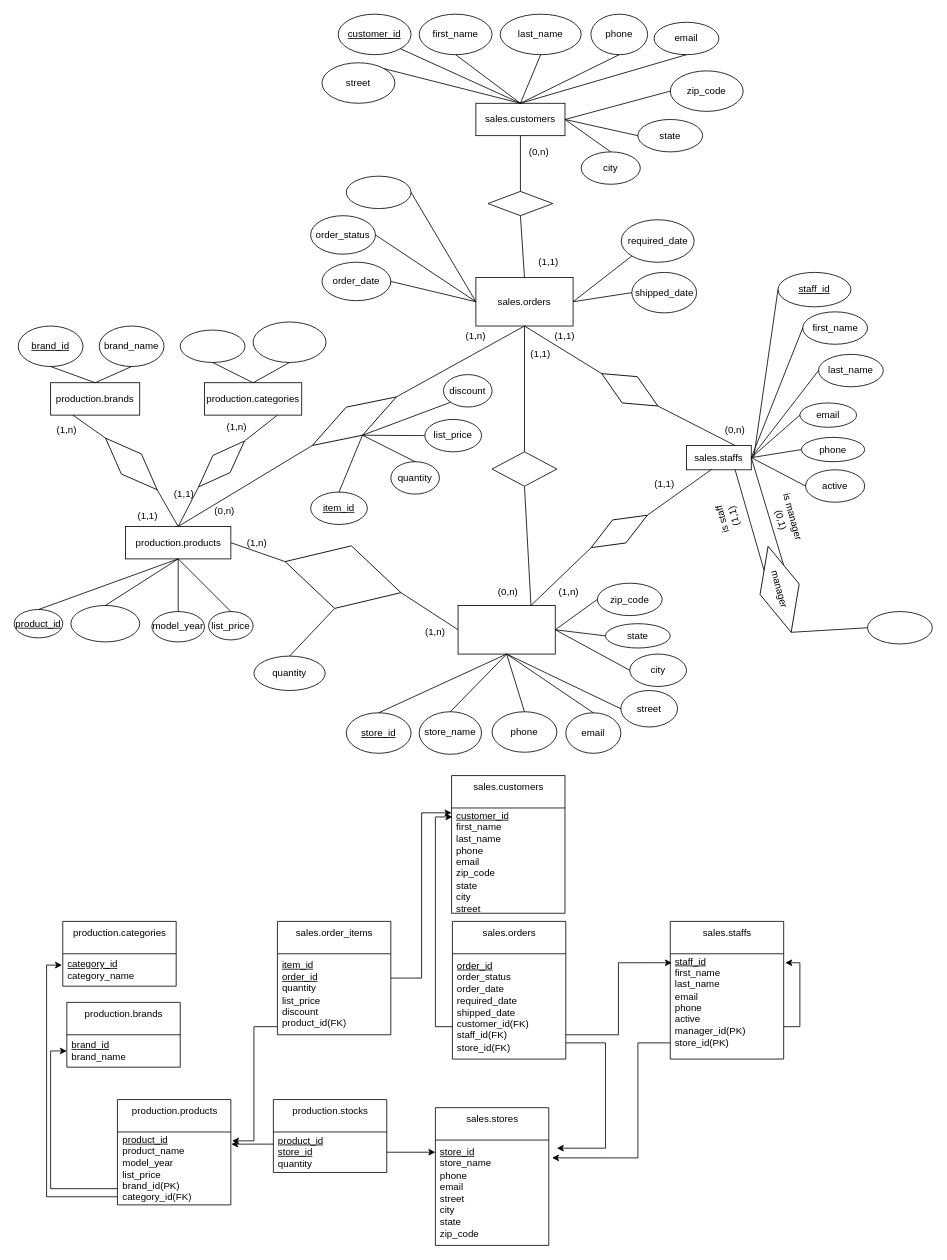
This 947x1260 diagram has some shape labels left out. Each missing label, with the centre of its shape:
category_id: (212,345)
category_name: (289,341)
from: (524,468)
IN: (221,463)
make: (131,463)
manager_id: (899,627)
order: (520,203)
order_id: (378,192)
order_items: (354,421)
product_name: (105,623)
receive: (629,389)
sale.stores: (506,629)
stock: (342,576)
work at: (619,531)
